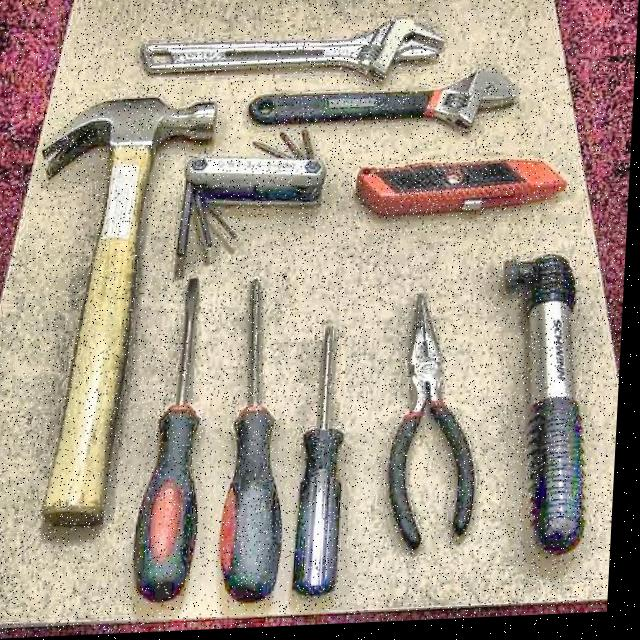Screwdriver: (140, 280, 204, 602), (225, 282, 288, 603), (300, 327, 348, 597)
